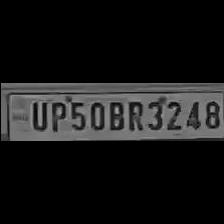0: (86, 98, 106, 132)
2: (162, 97, 182, 131)
3: (144, 97, 162, 131)
4: (182, 97, 200, 130)
5: (66, 98, 86, 132)
8: (201, 97, 221, 129)
B: (106, 98, 126, 132)
P: (46, 97, 66, 132)
R: (123, 97, 143, 132)
U: (26, 98, 46, 132)
